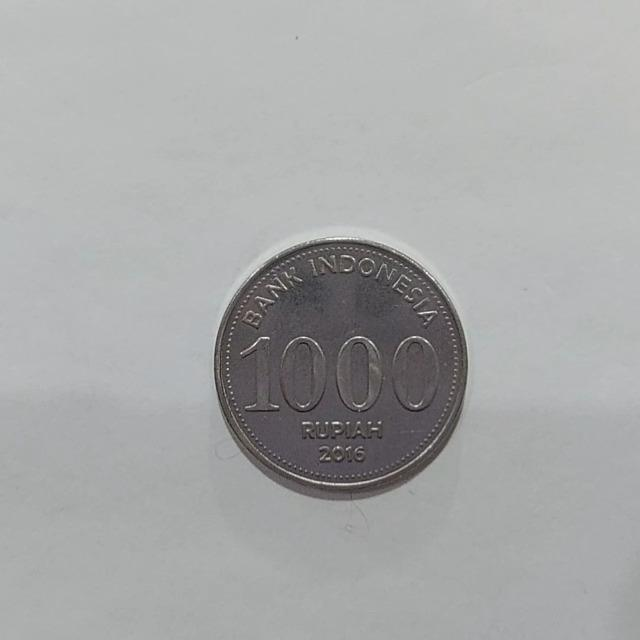Rp100: (211, 232, 469, 500)
